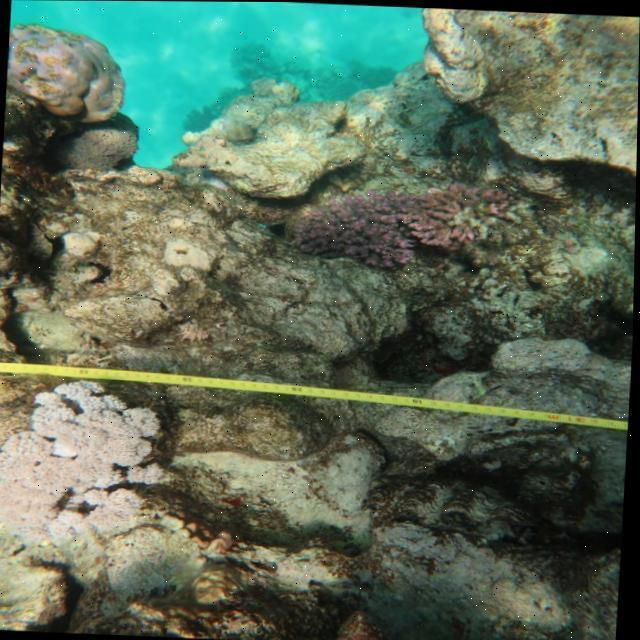Bleached Coral: (0, 369, 167, 544)
